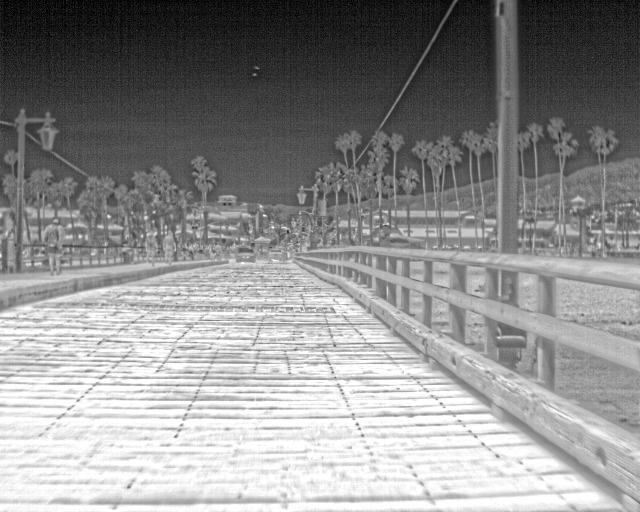bicycle: (264, 242, 287, 262), (235, 245, 256, 261)
empty: (42, 217, 66, 277), (158, 222, 177, 268), (143, 226, 161, 268)
